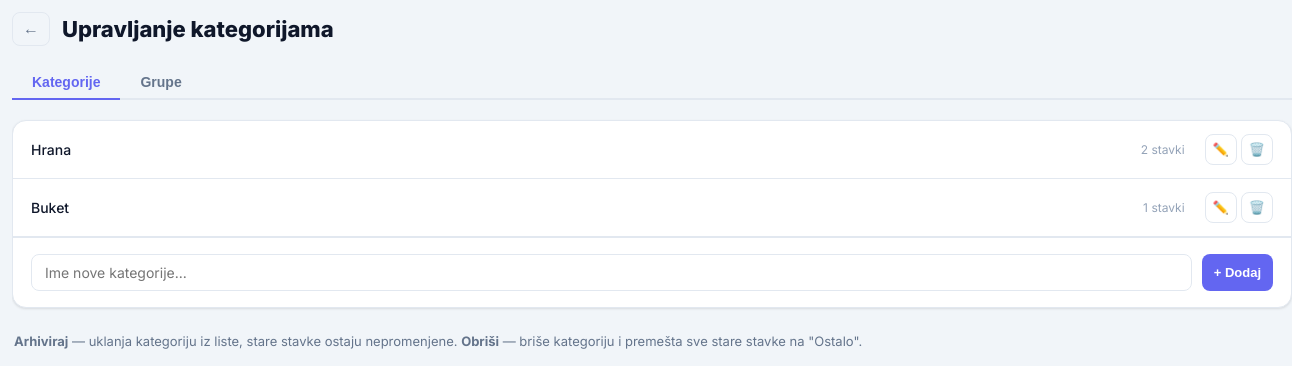
it: CategoryManager — rename › clicking ✏️ shows input pre-filled with current name
What coordinates should you click on to do the following:
click the button titled "Preimenuj" in the row of "Hrana"
I would click on:
 (1221, 150)
Its box is 1205,134 -> 1237,165.
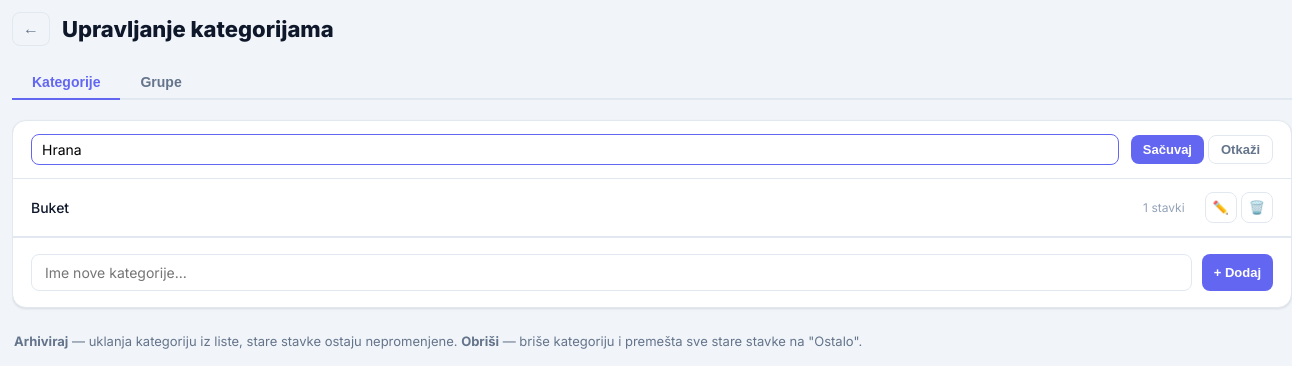
Expected: the field showing "Hrana" is shown, 31,134 -> 1119,165
